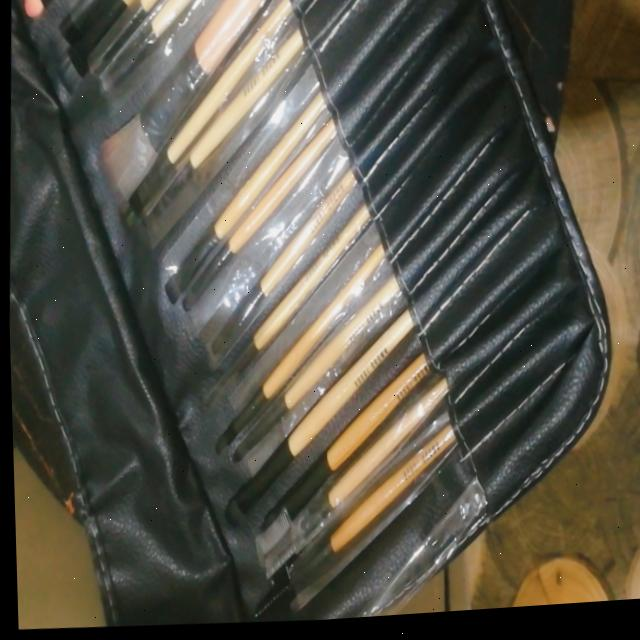brush: (150, 32, 443, 356), (198, 264, 388, 492), (208, 365, 364, 558), (73, 36, 211, 229), (55, 0, 154, 107), (9, 0, 65, 41)
